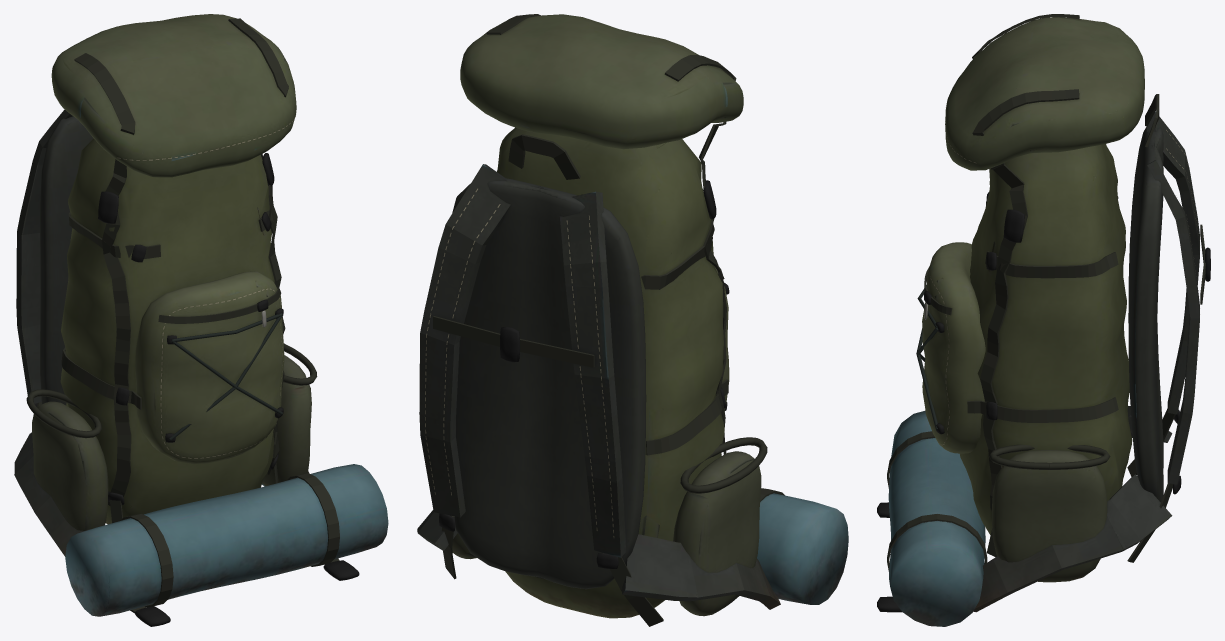
File: backpack.glb
The picture shows the model from 3 angles, left to right: view 1: azimuth 30°, elevation 25°; view 2: azimuth 150°, elevation 25°; view 3: azimuth 270°, elevation 25°; orthographic projection. The views are drawn at different scales.
Parts seen in each view (by area): view 1: PackBody, Lid, Straps, Hardware, Bungee, Stitching; view 2: PackBody, Lid, Straps, Hardware, Stitching; view 3: PackBody, Lid, Straps, Hardware, Bungee.
Part boxes in pixels (<box>): PackBody: <box>14,109,388,616</box>; Lid: <box>51,14,296,177</box>; Straps: <box>26,18,339,613</box>; Hardware: <box>35,153,359,626</box>; Bungee: <box>169,313,282,440</box>; Stitching: <box>117,115,295,458</box>; PackBody: <box>417,127,848,618</box>; Lid: <box>460,14,743,149</box>; Straps: <box>433,14,784,626</box>; Hardware: <box>439,180,729,568</box>; Stitching: <box>425,188,614,537</box>; PackBody: <box>888,112,1199,626</box>; Lid: <box>945,17,1144,170</box>; Straps: <box>887,14,1205,571</box>; Hardware: <box>877,192,1210,612</box>; Bungee: <box>916,284,938,430</box>.
Size of the model in its own units: 0.5 by 0.8675 by 0.5085.
Materials: 6 (1 with a texture image).
